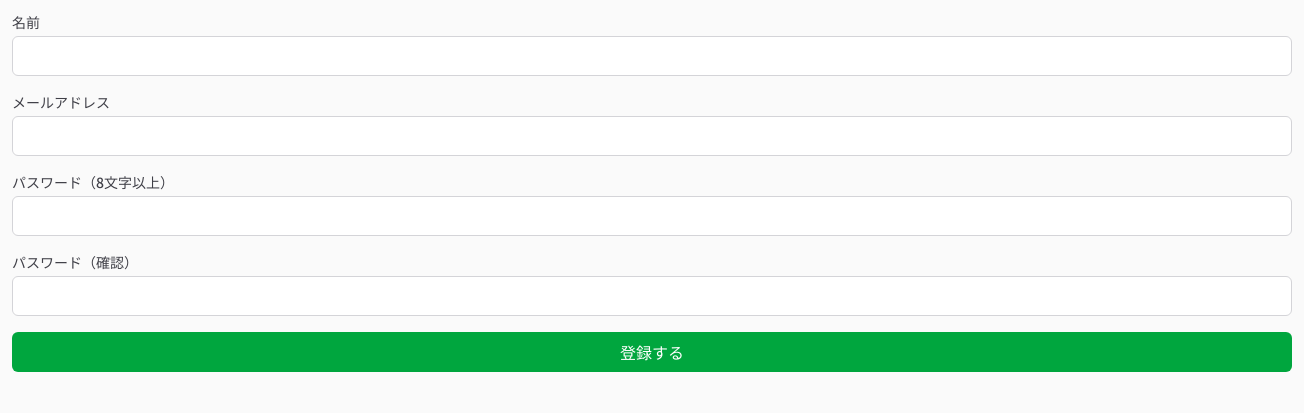
Test: 確認用パスワードが違えば、その欄の下にエラーが出て、API は呼ばない
In the field labelled "名前": (652, 56) x1=12 y1=36 x2=1292 y2=76, type "山田太郎"
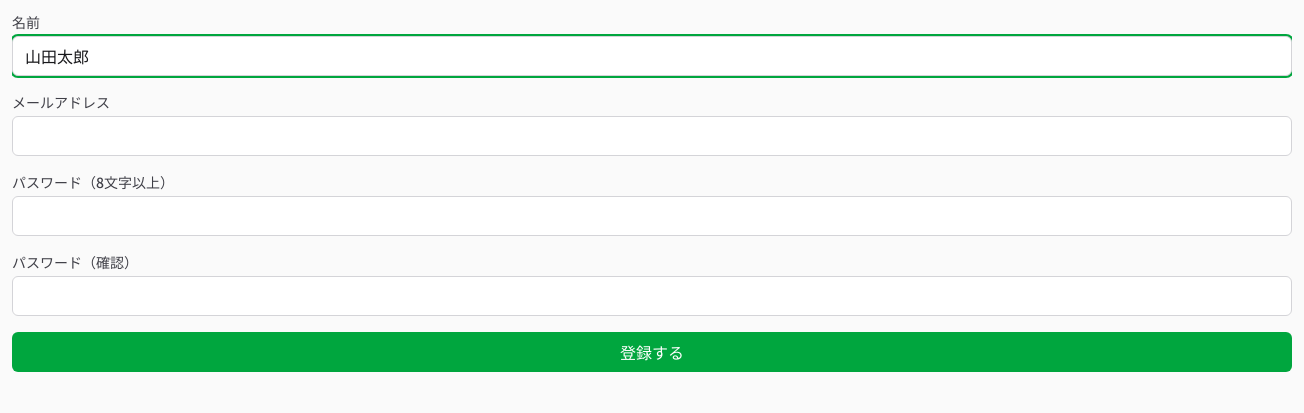
In the field labelled "メールアドレス": (652, 136) x1=12 y1=116 x2=1292 y2=156, type "taro@example.com"
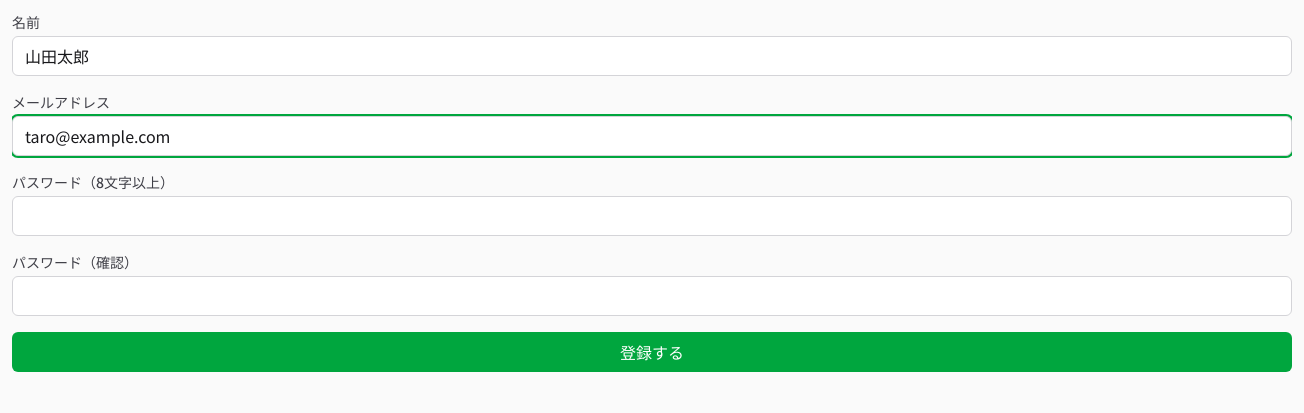
In the password field labelled "パスワード（8文字以上）": (652, 216) x1=12 y1=196 x2=1292 y2=236, type "password123"
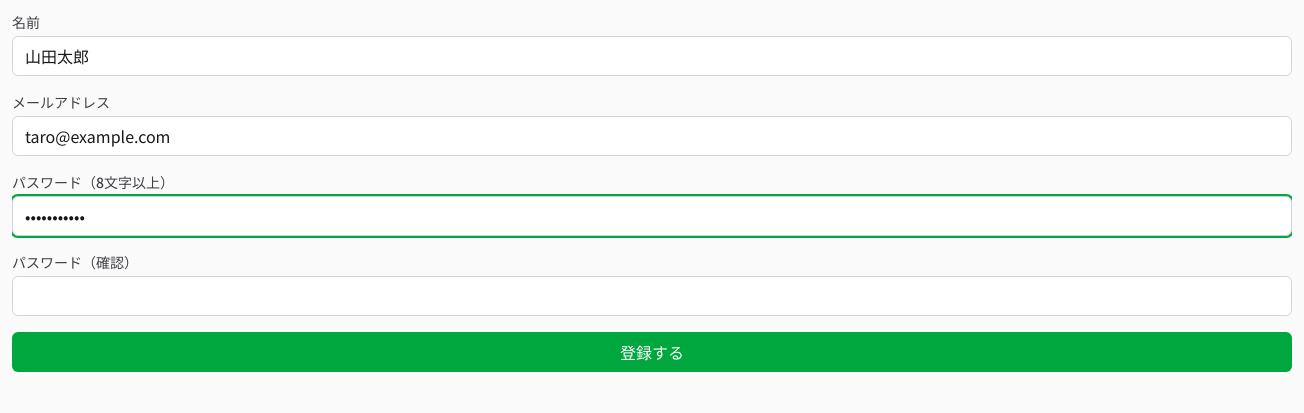
In the password field labelled "パスワード（確認）": (652, 296) x1=12 y1=276 x2=1292 y2=316, type "different1"
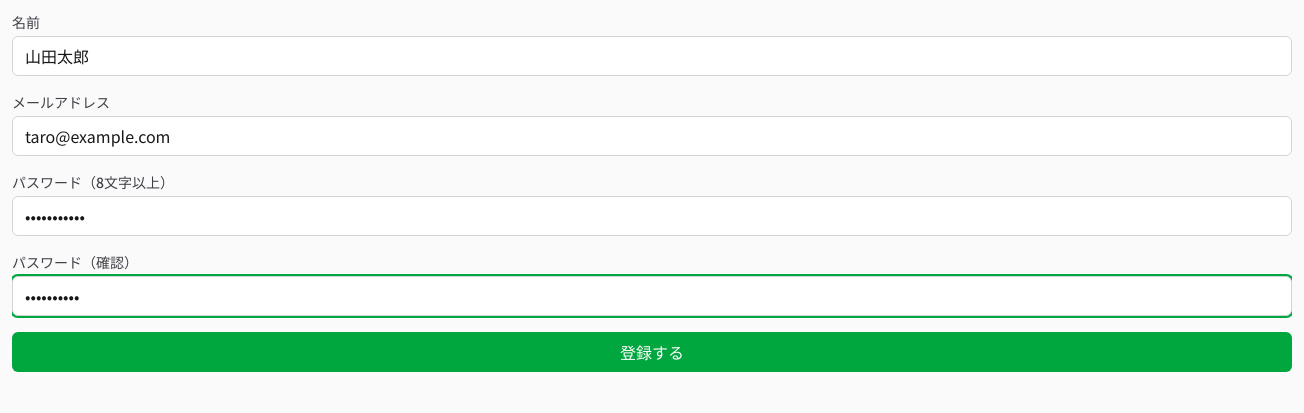
Click the button "登録する": (652, 352) x1=12 y1=332 x2=1292 y2=372
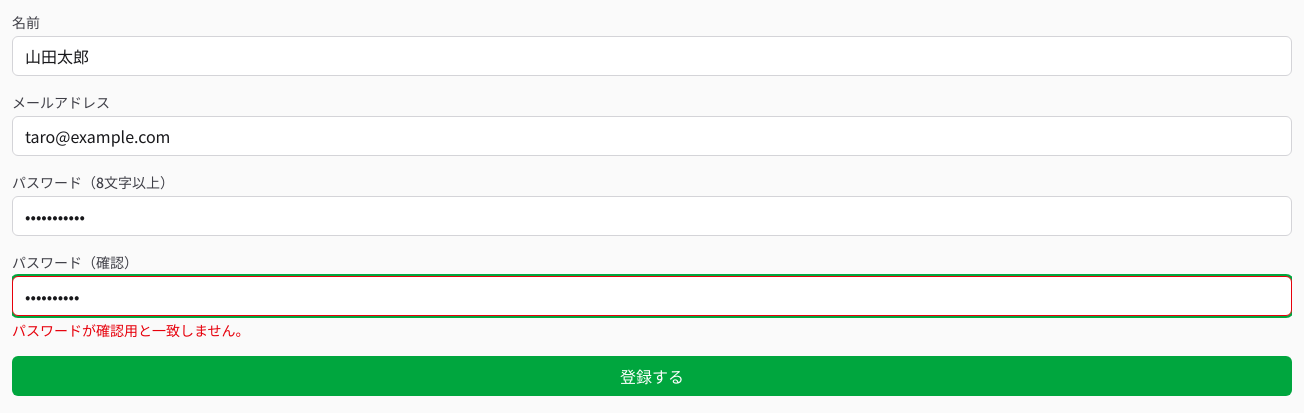
Now the text "パスワードが確認用と一致しません。" is shown, box x1=12 y1=320 x2=250 y2=340
